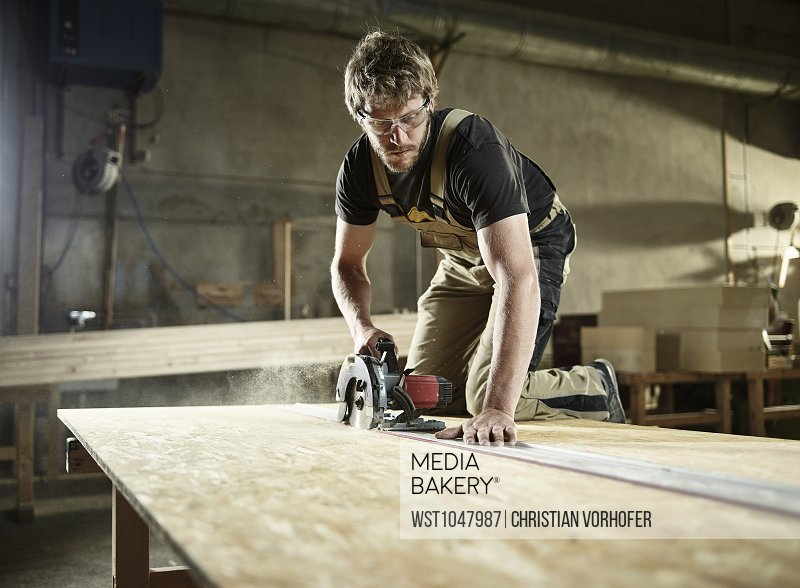noepi: (328, 26, 631, 440)
